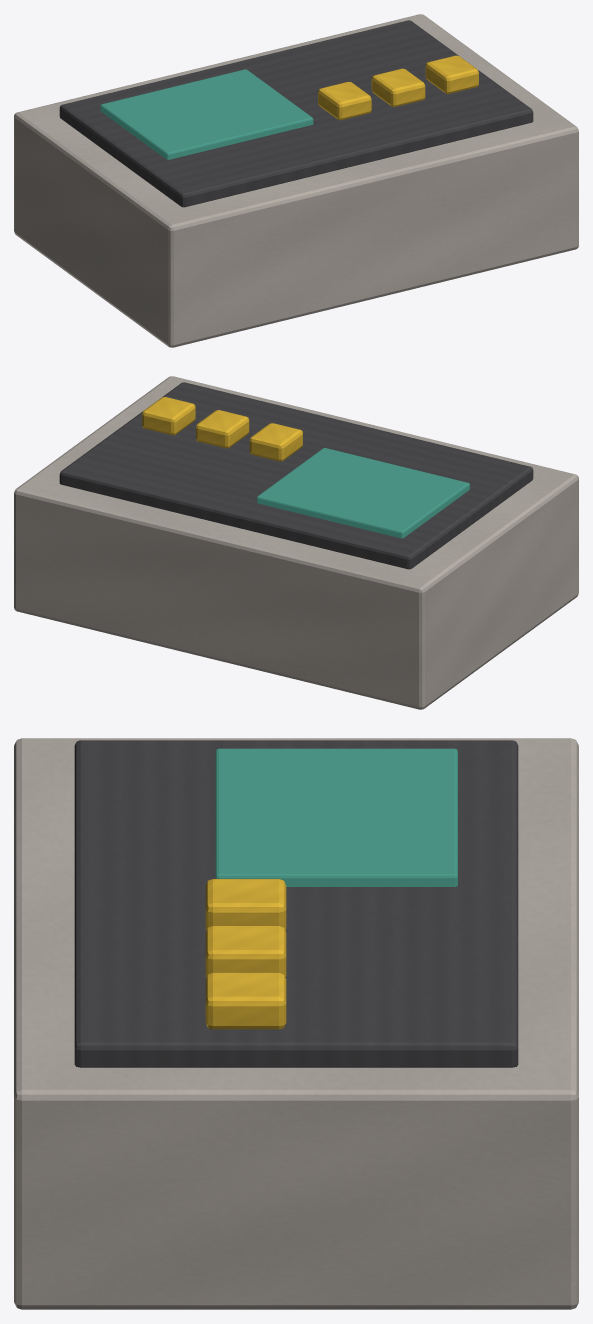
File: small_control_panel.glb
3 renders of one model, top to bottom at view 1: azimuth 30°, elevation 25°; view 2: azimuth 150°, elevation 25°; view 3: azimuth 270°, elevation 25°, orthographic. The views are drawn at different scales.
Visible parts, largest first — view 1: body.002, control_face, display.019, button.018, button.019, button.017; view 2: body.002, control_face, display.019, button.019, button.018, button.017; view 3: body.002, control_face, display.019, button.019, button.017, button.018.
Boxes of the visible parts, x1,y1,x2,y2 form: body.002: [14, 14, 578, 347]; control_face: [59, 20, 533, 207]; display.019: [100, 69, 313, 159]; button.018: [371, 68, 425, 106]; button.019: [425, 55, 478, 93]; button.017: [318, 82, 371, 120]; body.002: [14, 376, 578, 709]; control_face: [59, 382, 533, 569]; display.019: [257, 448, 469, 538]; button.019: [142, 397, 195, 435]; button.018: [196, 410, 249, 448]; button.017: [249, 423, 302, 461]; body.002: [14, 738, 578, 1309]; control_face: [74, 740, 518, 1067]; display.019: [215, 748, 457, 886]; button.019: [205, 972, 286, 1029]; button.017: [205, 879, 286, 930]; button.018: [205, 926, 286, 977].
Size of the model in its own units: 0.42 by 0.149 by 0.28.
Materials: 4 (3 with a texture image).
